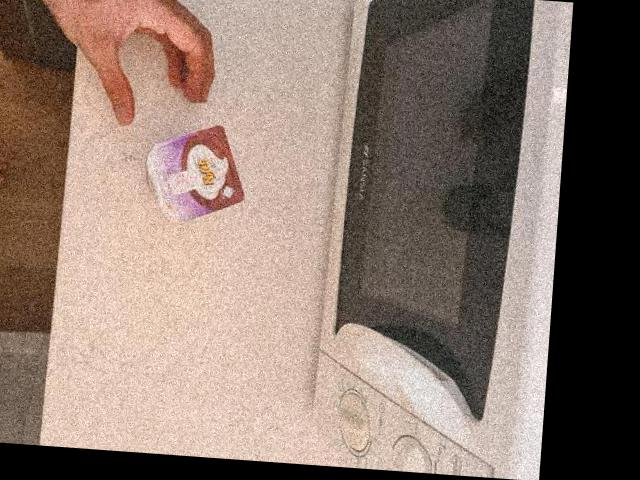milky: (140, 120, 248, 225)
